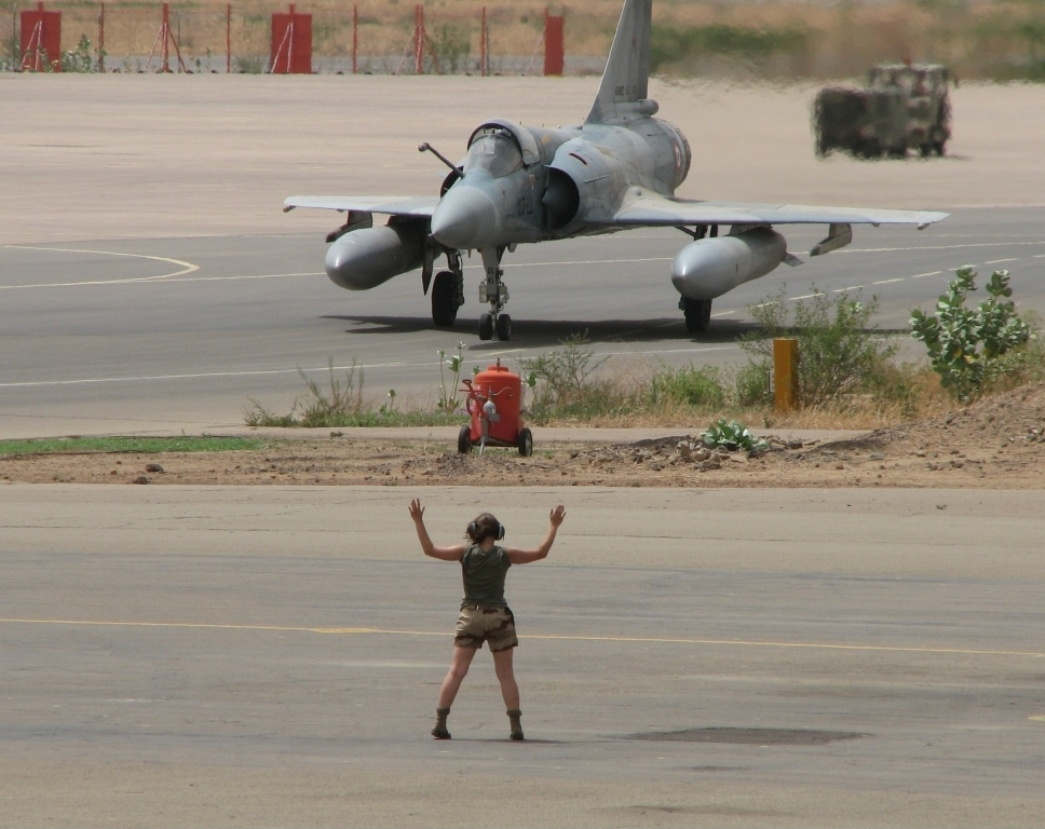Mirage2000: (281, 1, 950, 341)
